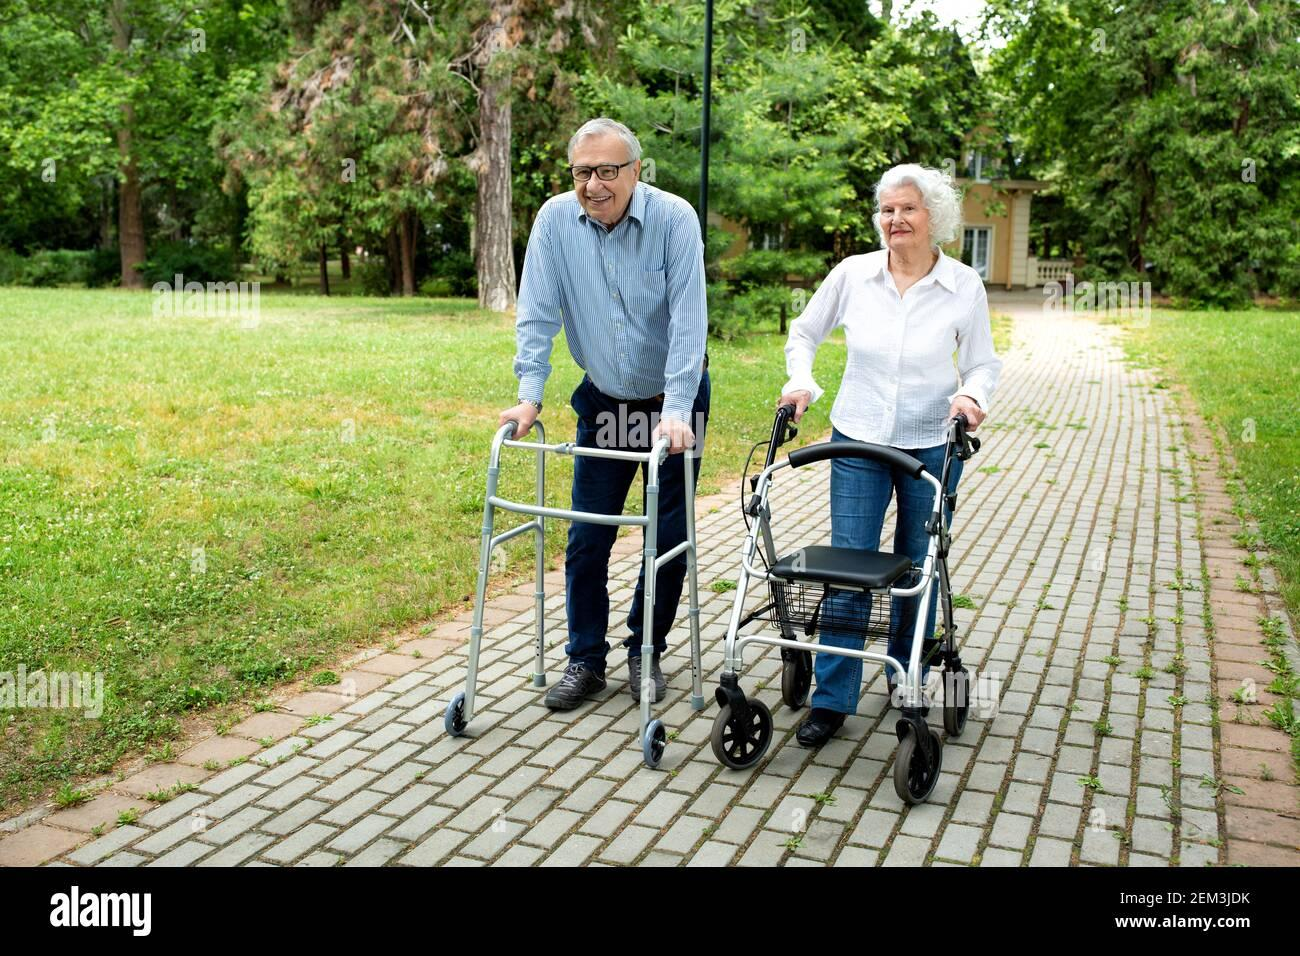walking_frame: (713, 166, 1001, 803), (446, 118, 710, 764)
